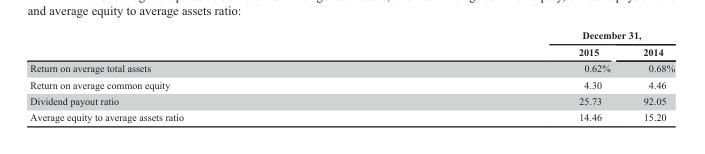table: (29, 29, 674, 122)
table column: (29, 29, 380, 122), (380, 29, 626, 122), (626, 29, 674, 122)
table column header: (29, 29, 674, 59)
table row: (29, 75, 674, 92), (29, 43, 674, 59), (29, 59, 674, 75), (29, 92, 674, 108), (29, 29, 674, 43), (29, 108, 674, 122)
table spanning cell: (380, 29, 674, 43)
